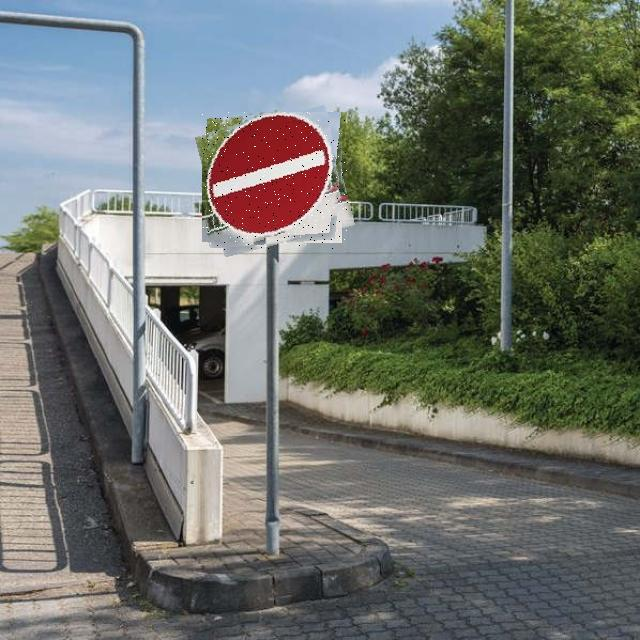no entry: (202, 112, 348, 250)
